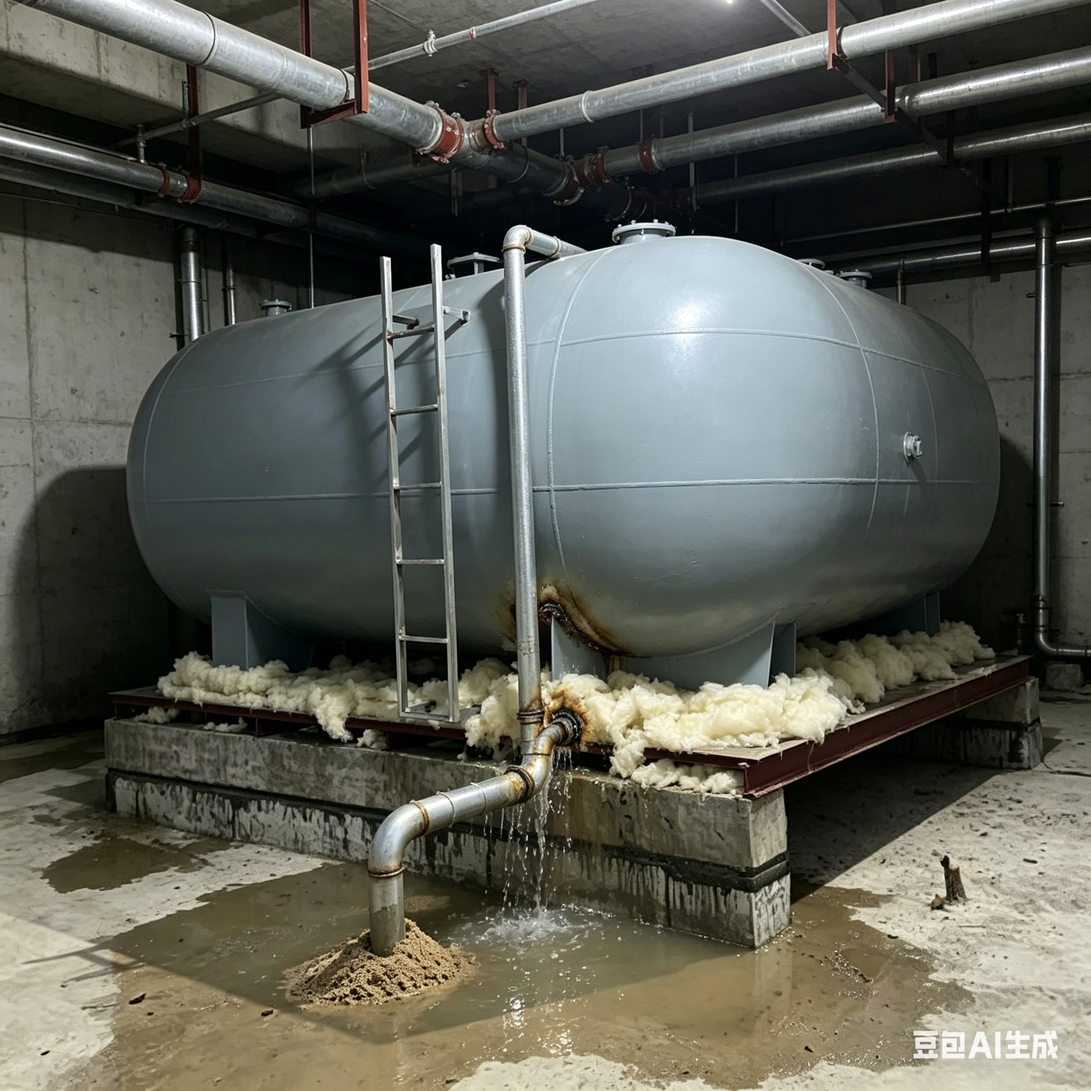Leakage: (608, 898, 949, 1085), (112, 933, 451, 1091), (463, 680, 598, 1045), (209, 866, 425, 925), (38, 828, 178, 882)
